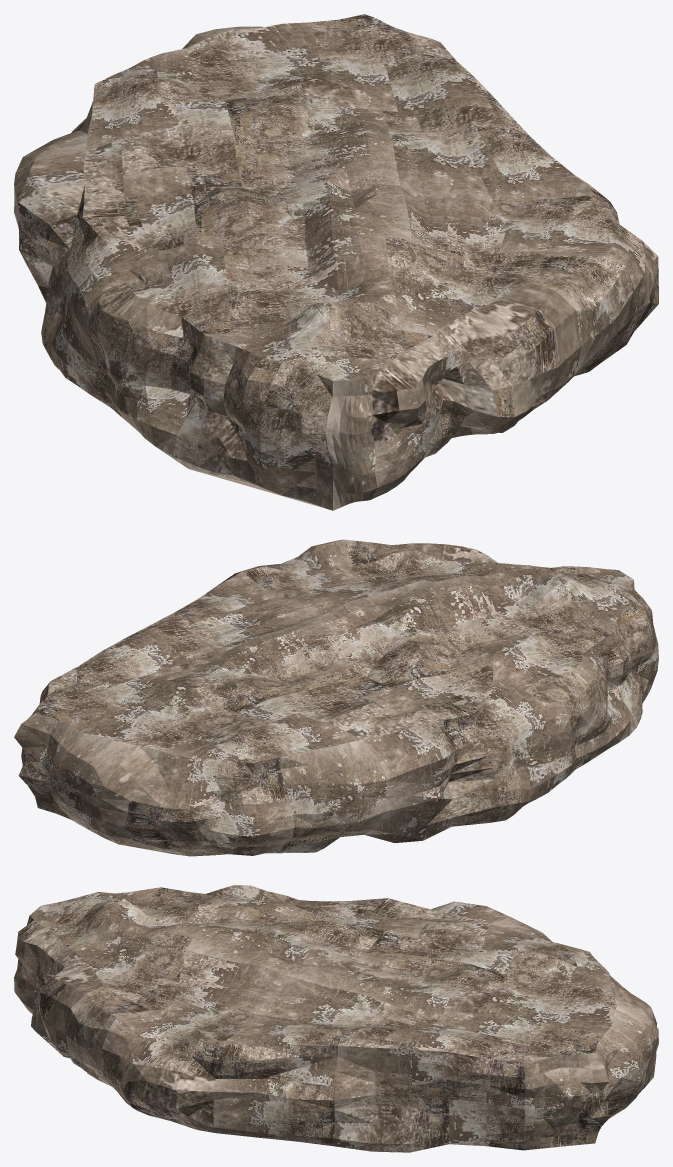
File: Roca5.fbx
3 renders of one model, top to bottom at view 1: azimuth 30°, elevation 25°; view 2: azimuth 150°, elevation 25°; view 3: azimuth 270°, elevation 25°, orthographic. The views are drawn at different scales.
Visible parts, largest first — view 1: Escombro3; view 2: Escombro3; view 3: Escombro3.
Boxes of the visible parts, x1,y1,x2,y2 form: Escombro3: (14,14,658,510); Escombro3: (14,539,658,856); Escombro3: (14,885,658,1152).
Bounding box in the file's own units: 690 × 259 × 963.
